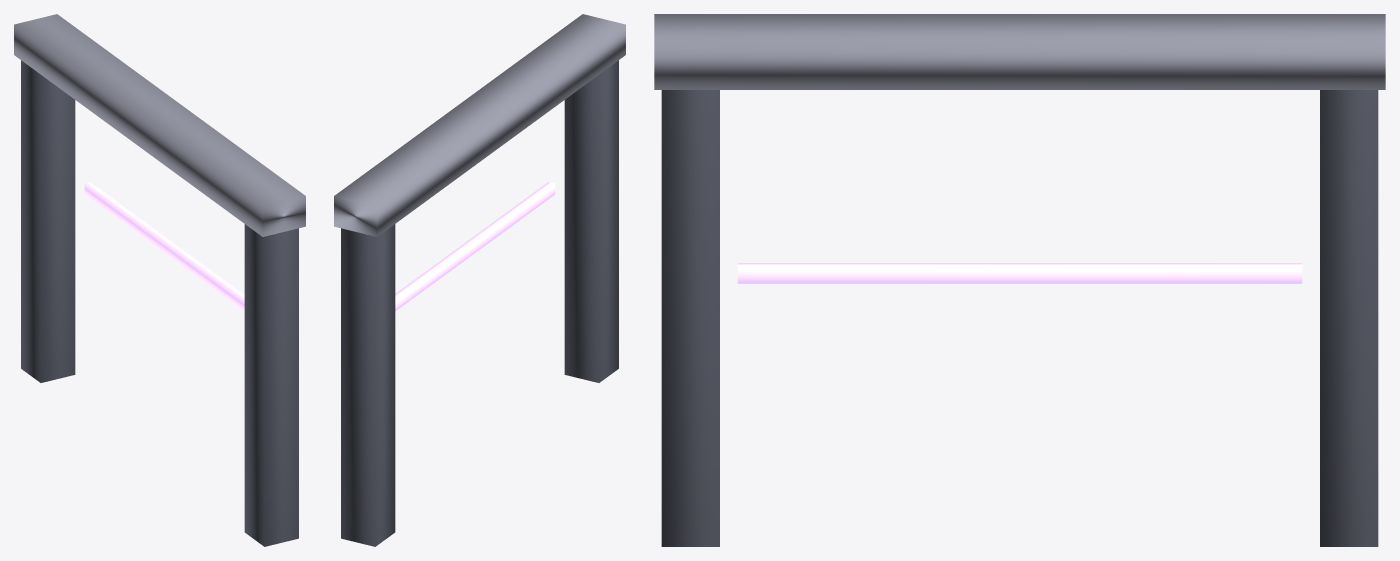
The model's file is parallax-reference-frame-lod2.glb.
3 renders of one model, left to right at view 1: azimuth 30°, elevation 25°; view 2: azimuth 150°, elevation 25°; view 3: azimuth 270°, elevation 25°, orthographic. The views are drawn at different scales.
Parts seen in each view (by area): view 1: parallax-reference-frame-crown, parallax-reference-frame-right, parallax-reference-frame-left, parallax-reference-frame-baseline; view 2: parallax-reference-frame-crown, parallax-reference-frame-left, parallax-reference-frame-right, parallax-reference-frame-baseline; view 3: parallax-reference-frame-crown, parallax-reference-frame-left, parallax-reference-frame-right, parallax-reference-frame-baseline.
Part boxes in pixels (left/top/right/bottom): parallax-reference-frame-crown: left=14, top=14, right=305, bottom=236; parallax-reference-frame-right: left=244, top=224, right=298, bottom=546; parallax-reference-frame-left: left=21, top=60, right=75, bottom=382; parallax-reference-frame-baseline: left=84, top=182, right=244, bottom=311; parallax-reference-frame-crown: left=334, top=14, right=625, bottom=236; parallax-reference-frame-left: left=341, top=224, right=395, bottom=546; parallax-reference-frame-right: left=564, top=60, right=618, bottom=382; parallax-reference-frame-baseline: left=395, top=182, right=555, bottom=311; parallax-reference-frame-crown: left=654, top=14, right=1385, bottom=89; parallax-reference-frame-left: left=1320, top=90, right=1378, bottom=546; parallax-reference-frame-right: left=661, top=90, right=719, bottom=546; parallax-reference-frame-baseline: left=737, top=263, right=1302, bottom=283.
Bounding box in the file's own units: 0.57 × 3.81 × 5.
